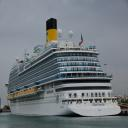cruises: (7, 17, 124, 121)
